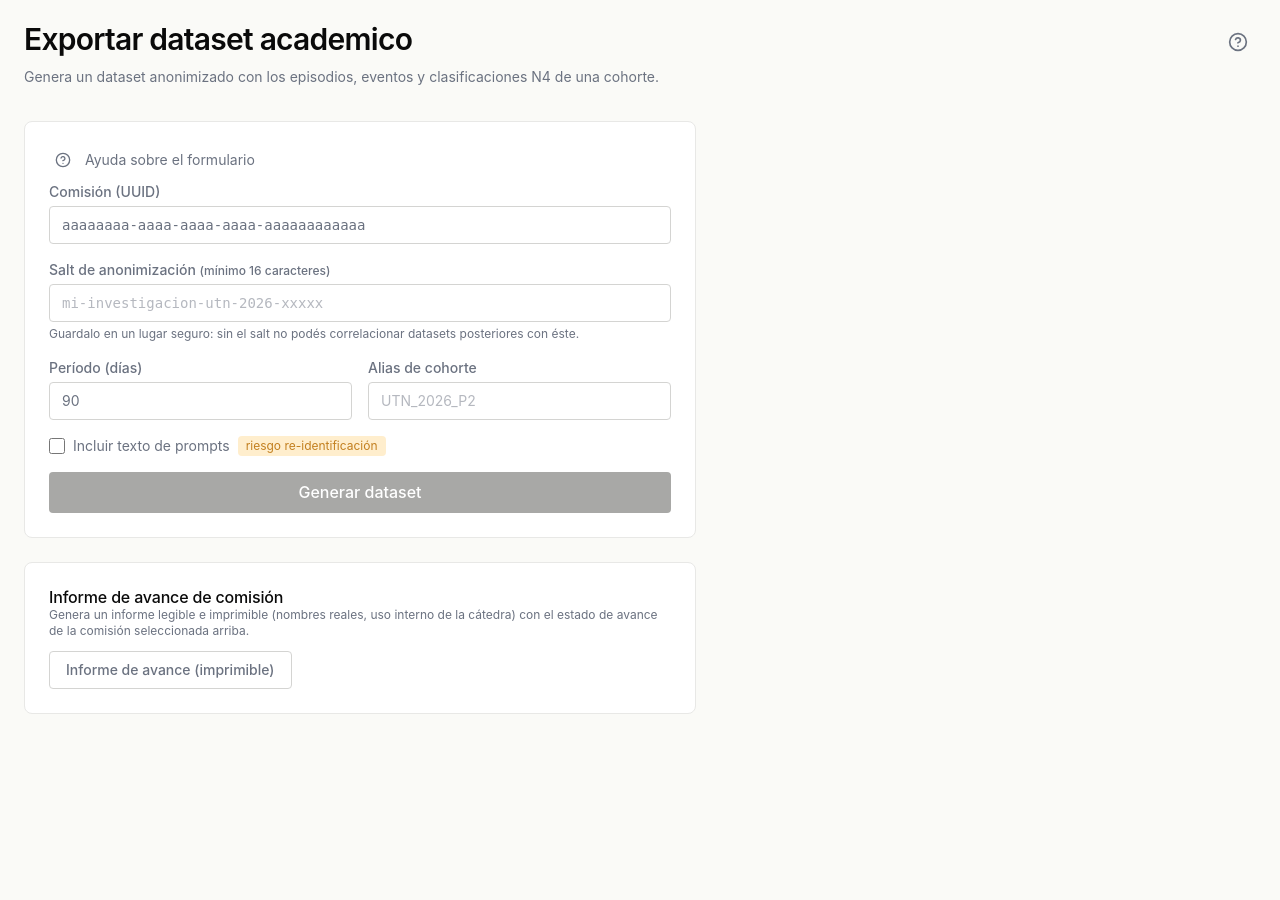
Test: ExportView — informe de avance (imprimible) › si un fetch del informe falla, muestra error legible sin romper la vista
Click the button "Informe de avance (imprimible)" at coordinates (170, 670), box [49, 651, 292, 689]
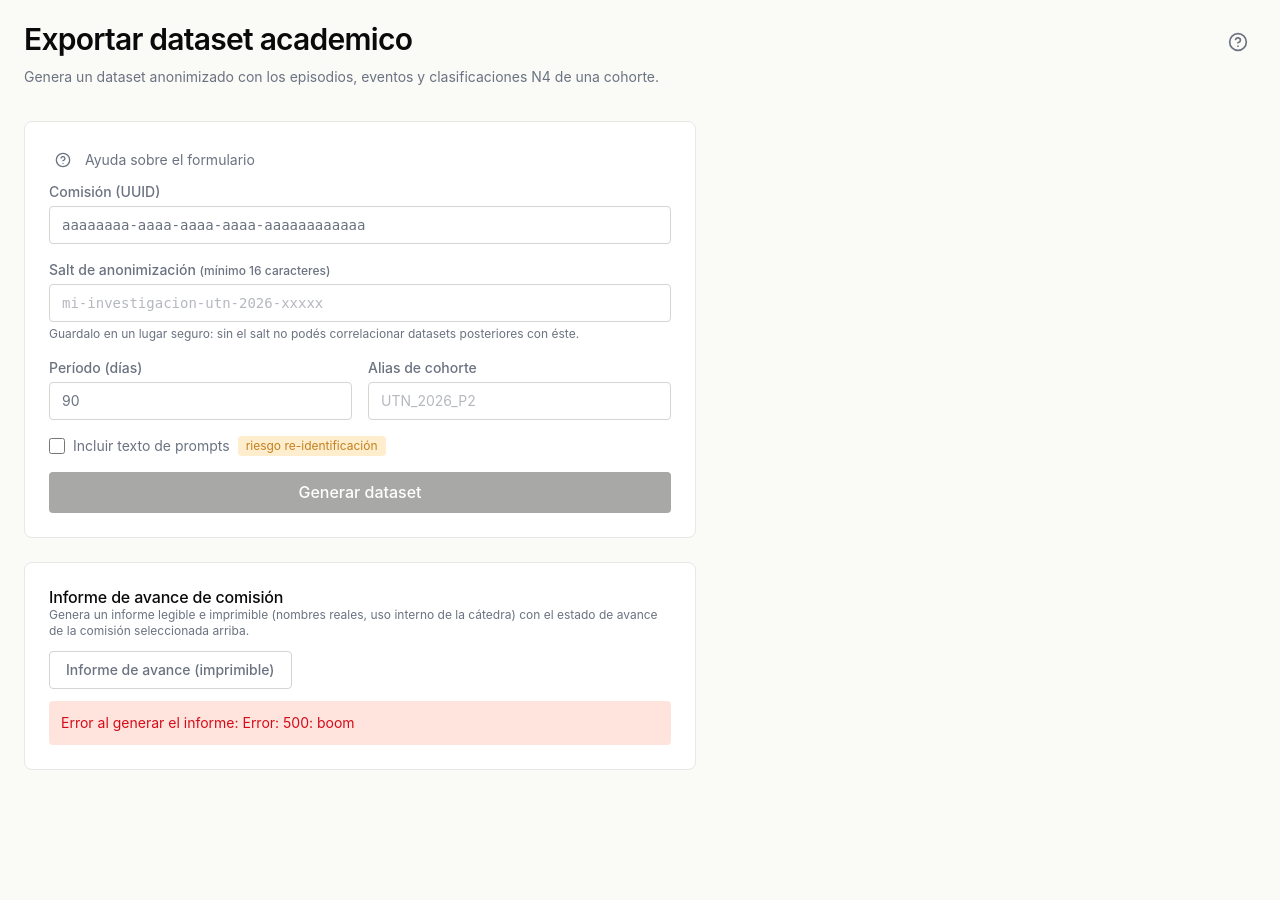
Expected: the button "Generar dataset" is shown, [49, 472, 671, 513]
Now the text "Error al generar el informe: Error: 500: boom" is shown, box [49, 701, 671, 745]
